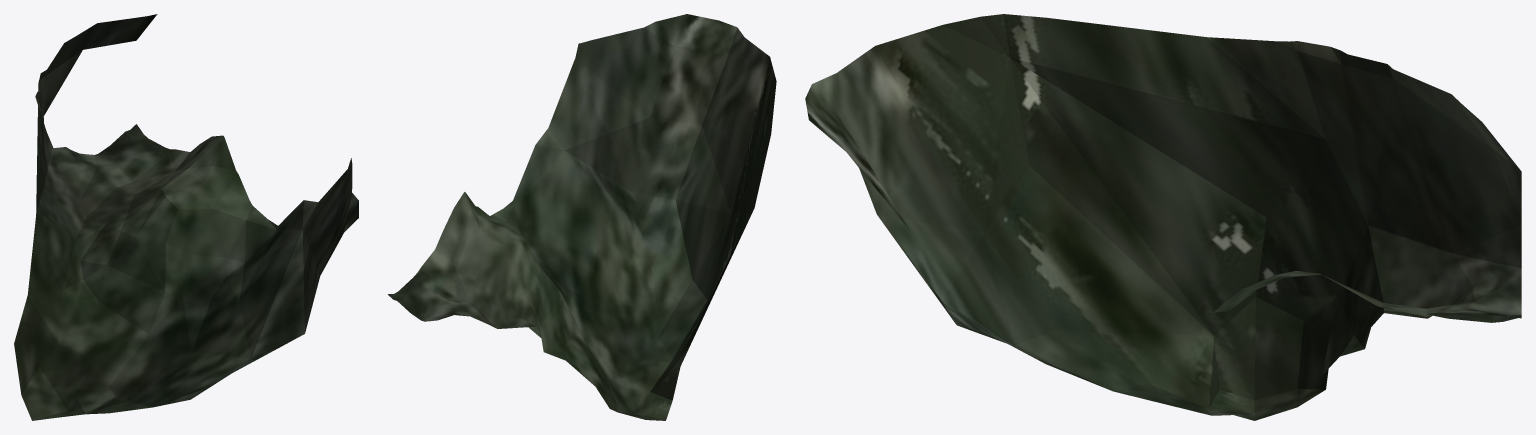
The picture shows the model from 3 angles, left to right: view 1: azimuth 30°, elevation 25°; view 2: azimuth 150°, elevation 25°; view 3: azimuth 270°, elevation 25°; orthographic projection. The views are drawn at different scales.
Bounding box in the file's own units: 1.22 × 1.48 × 2.57.
2 materials, 2 textured.
